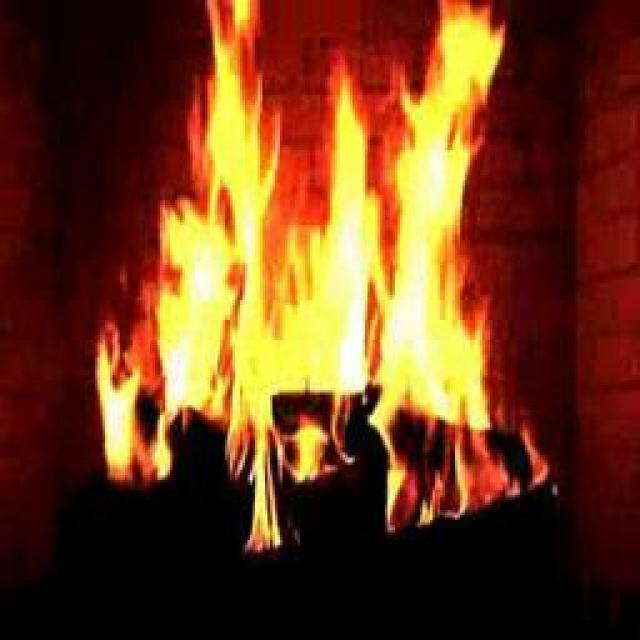Fire: (99, 47, 484, 482)
